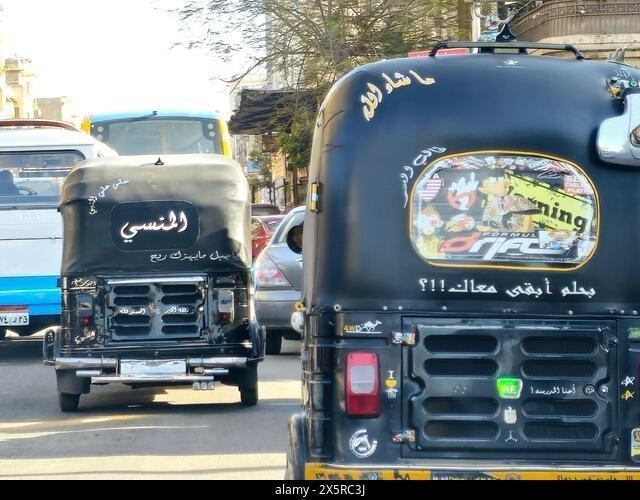keke: (276, 48, 636, 499), (49, 107, 262, 414)
